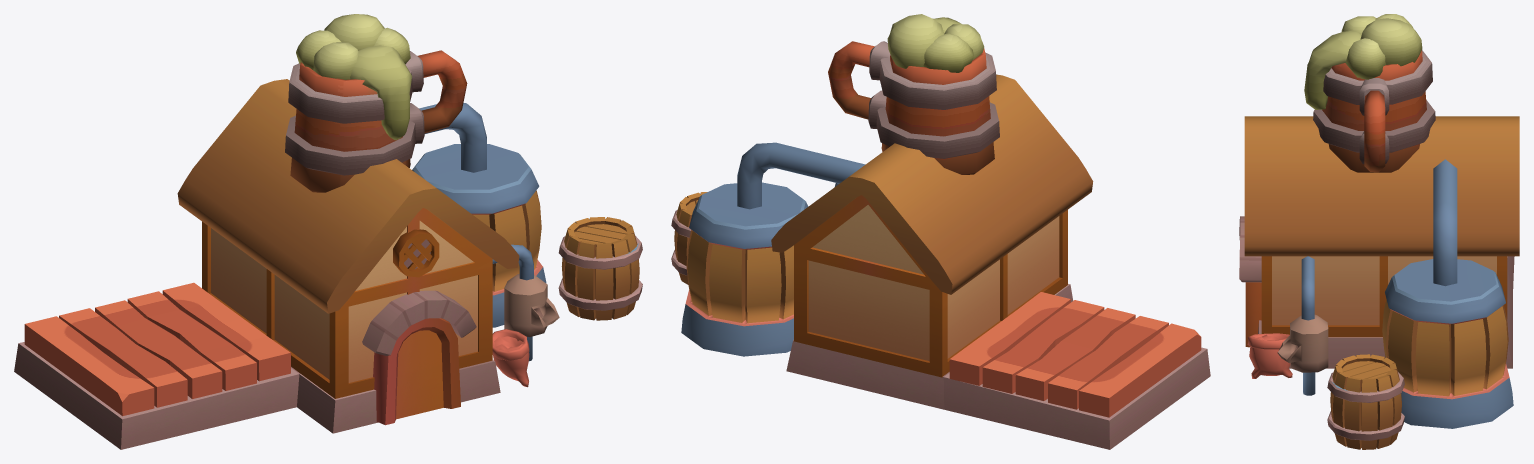
Rendered from Beer House.fbx.
3 views of the same model, side by side, from view 1: azimuth 30°, elevation 25°; view 2: azimuth 150°, elevation 25°; view 3: azimuth 270°, elevation 25° (orthographic). The views are drawn at different scales.
Parts seen in each view (by area): view 1: Cube.013, Cube.118; view 2: Cube.013, Cube.118; view 3: Cube.013, Cube.118.
Part boxes in pixels (bbox=[...]): Cube.013: bbox=[14, 14, 559, 449]; Cube.118: bbox=[558, 217, 642, 320]; Cube.013: bbox=[681, 14, 1210, 449]; Cube.118: bbox=[671, 192, 707, 284]; Cube.013: bbox=[1239, 14, 1519, 428]; Cube.118: bbox=[1327, 354, 1404, 449].
Size of the model in its own units: 2.35 by 1.41 by 1.14.
